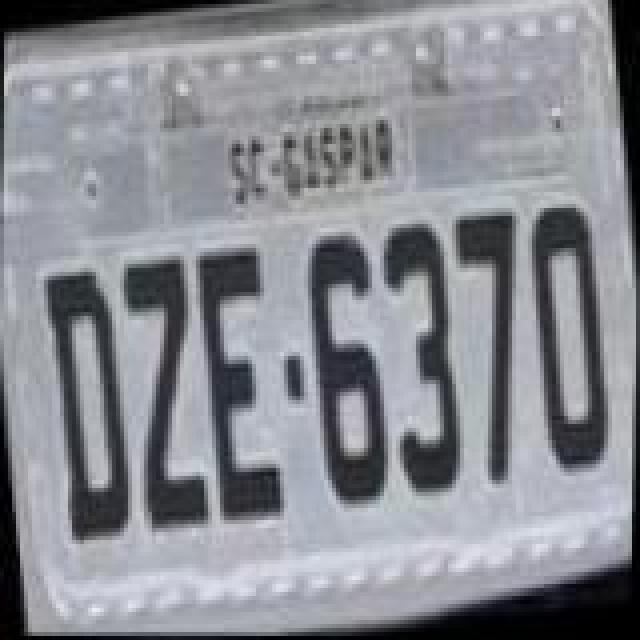3: (370, 216, 474, 500)
6: (296, 226, 404, 518)
7: (446, 206, 550, 494)
D: (38, 260, 146, 544)
E: (186, 240, 294, 528)
O: (522, 196, 626, 480)
Z: (110, 250, 218, 534)
